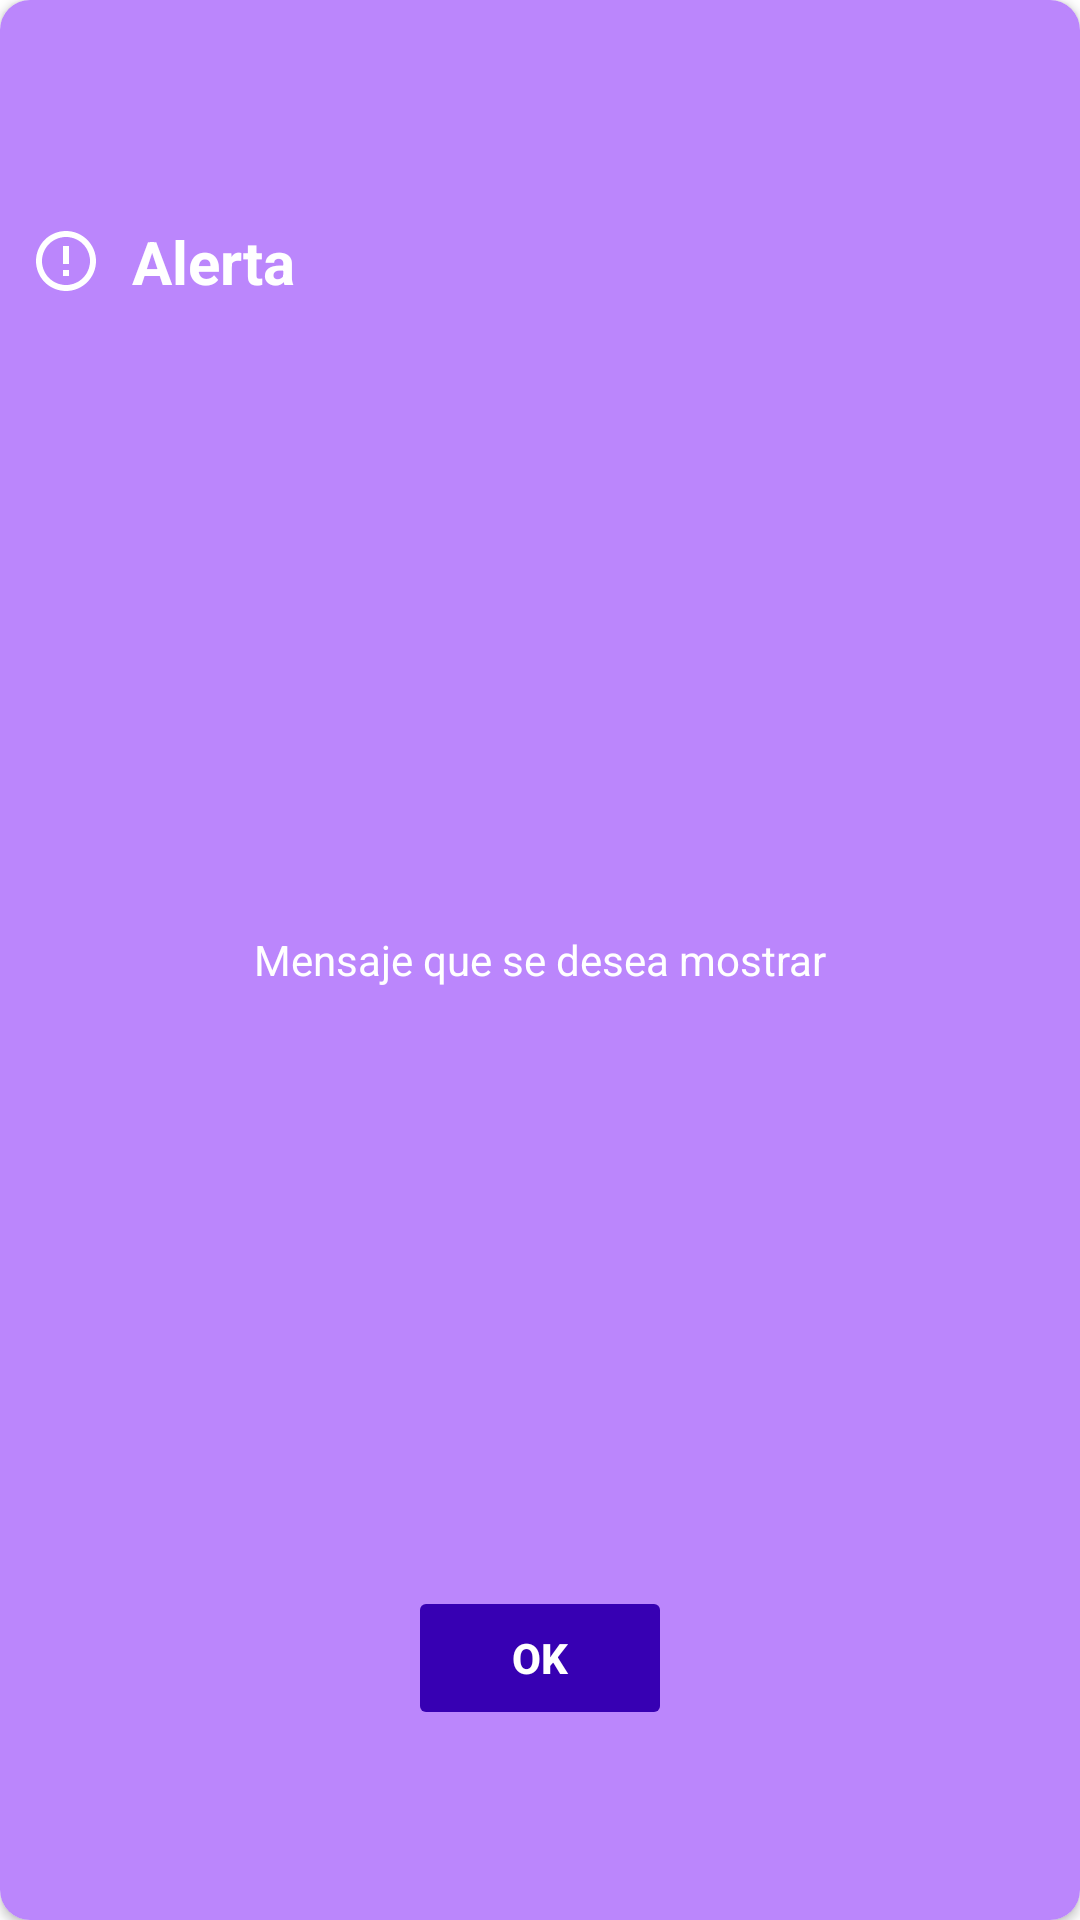

Icon bounding boxes for this 1080px x 1920px phone screenshot, format bbox=[x1, y1, x2, y2]:
error: bbox=[36, 231, 96, 291]
